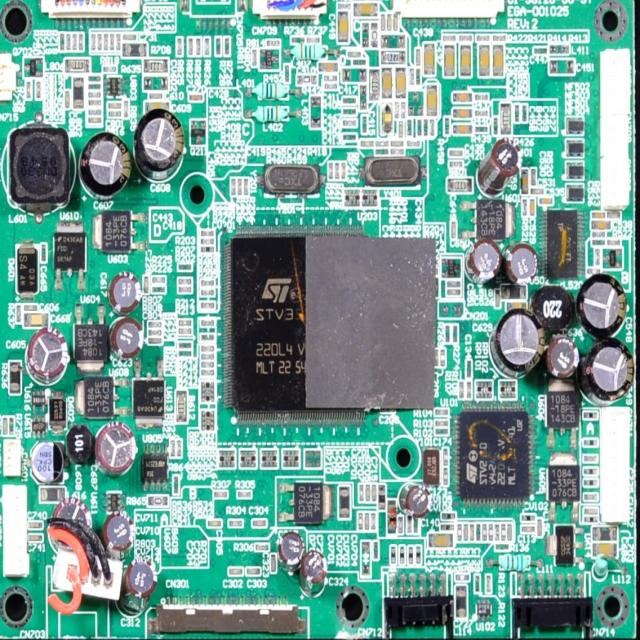Capacitor Jumper: (548, 59, 576, 76), (602, 248, 624, 269), (442, 45, 456, 77), (492, 44, 505, 78), (23, 312, 50, 328), (426, 83, 439, 115), (336, 11, 349, 43), (592, 542, 618, 558), (460, 43, 472, 77), (478, 44, 490, 78), (423, 44, 435, 76), (428, 533, 453, 548), (353, 3, 378, 16), (382, 68, 392, 99), (396, 68, 406, 98), (452, 122, 473, 136), (452, 107, 472, 120), (144, 101, 170, 110), (521, 168, 529, 195), (453, 92, 472, 103), (591, 220, 612, 229), (297, 75, 317, 84), (506, 301, 527, 309), (539, 196, 554, 206), (454, 573, 470, 582), (361, 114, 368, 134), (449, 148, 463, 158), (323, 74, 338, 83), (189, 93, 204, 102), (342, 96, 357, 105), (533, 46, 548, 55), (536, 518, 543, 537), (390, 139, 406, 147), (24, 304, 38, 313), (246, 566, 260, 575), (228, 567, 242, 576), (392, 12, 398, 32), (495, 288, 501, 308), (148, 337, 163, 345), (440, 348, 446, 368), (252, 519, 267, 527), (521, 526, 536, 534), (530, 198, 536, 217), (380, 13, 386, 32), (466, 359, 472, 378), (463, 523, 469, 542), (457, 524, 463, 543), (360, 140, 374, 148), (122, 34, 136, 42), (515, 104, 521, 122), (493, 117, 499, 135), (144, 276, 150, 294), (371, 484, 377, 502), (482, 524, 488, 542), (270, 554, 276, 572), (415, 48, 421, 66), (88, 116, 101, 124), (200, 245, 213, 253), (386, 14, 392, 31), (507, 523, 513, 540), (500, 523, 506, 540), (150, 93, 164, 100), (530, 188, 544, 195), (207, 520, 221, 527), (28, 522, 42, 529), (65, 90, 70, 109), (41, 243, 46, 262), (343, 108, 356, 115), (343, 134, 356, 141), (29, 534, 42, 541), (451, 221, 456, 239), (476, 524, 481, 542), (488, 524, 493, 541)
Connector: (512, 573, 591, 639), (157, 598, 297, 632), (600, 51, 629, 209), (382, 574, 453, 638), (602, 408, 630, 523), (2, 485, 30, 576), (397, 0, 502, 18), (254, 0, 328, 23), (41, 0, 141, 17), (3, 440, 21, 476), (439, 300, 464, 318)
IC: (227, 231, 435, 423), (453, 408, 533, 508), (541, 210, 584, 278), (94, 210, 147, 252), (460, 200, 515, 240), (54, 222, 87, 288), (549, 452, 578, 524), (76, 379, 129, 417), (548, 380, 578, 447), (74, 305, 108, 363), (134, 359, 164, 418), (546, 524, 584, 564), (142, 444, 168, 491), (104, 75, 128, 97), (476, 596, 493, 621), (103, 492, 126, 510), (32, 388, 45, 412), (33, 416, 46, 438)
Resistor Jumper: (500, 556, 530, 570), (9, 362, 20, 394), (123, 44, 146, 57), (362, 23, 370, 47), (148, 497, 168, 506), (342, 118, 358, 128), (390, 147, 405, 157), (284, 64, 291, 85), (451, 323, 458, 344), (444, 322, 451, 343), (215, 37, 222, 58), (176, 38, 184, 56), (444, 116, 451, 136), (530, 167, 537, 187), (148, 320, 162, 330), (223, 37, 230, 57), (204, 36, 211, 56), (474, 574, 481, 594), (371, 24, 377, 47), (406, 139, 421, 148), (449, 160, 464, 169), (200, 301, 215, 310), (435, 408, 450, 417), (337, 2, 352, 11), (195, 37, 202, 56), (188, 38, 195, 57), (251, 49, 258, 68), (485, 574, 492, 593), (200, 360, 216, 368), (474, 93, 488, 102), (88, 98, 102, 107), (88, 107, 102, 116), (592, 230, 606, 239), (178, 276, 192, 285), (36, 80, 42, 100), (87, 90, 102, 98), (107, 110, 122, 118), (474, 125, 489, 133), (328, 160, 334, 180), (334, 160, 340, 180), (522, 198, 528, 218), (200, 280, 215, 288), (458, 34, 473, 42), (466, 380, 472, 400), (306, 36, 321, 44), (266, 39, 281, 47), (9, 416, 15, 436), (434, 428, 449, 436), (173, 475, 179, 495), (365, 482, 371, 502), (201, 333, 214, 342), (123, 99, 129, 118), (16, 304, 22, 323), (170, 439, 176, 458), (358, 483, 364, 502), (470, 523, 476, 542), (473, 110, 489, 117), (152, 276, 166, 284), (152, 285, 166, 293), (200, 288, 214, 296), (178, 319, 192, 327), (178, 327, 192, 335), (178, 341, 192, 349), (200, 345, 214, 353), (200, 354, 216, 361), (201, 368, 215, 376), (476, 34, 490, 42), (101, 66, 117, 73), (26, 81, 32, 99), (242, 177, 248, 195), (60, 32, 66, 50), (78, 33, 84, 51), (72, 33, 78, 51), (176, 439, 182, 457), (87, 83, 102, 90), (374, 149, 389, 156), (492, 34, 507, 41), (434, 420, 449, 427), (237, 491, 252, 498), (88, 75, 101, 83), (494, 523, 500, 540), (178, 264, 192, 271), (201, 319, 215, 326), (148, 329, 162, 336), (178, 350, 192, 357), (291, 36, 305, 43), (214, 491, 228, 498), (376, 139, 388, 147), (201, 229, 213, 237), (231, 177, 236, 196), (201, 238, 214, 245), (522, 104, 527, 122), (340, 162, 345, 180), (237, 178, 242, 196), (459, 381, 464, 399), (102, 36, 108, 51), (66, 32, 71, 49), (444, 35, 456, 42), (228, 520, 242, 526), (495, 544, 509, 550), (110, 34, 115, 50), (116, 34, 121, 50), (325, 83, 338, 89), (179, 286, 192, 292), (256, 544, 268, 550), (98, 33, 102, 50), (92, 34, 96, 50)
Transistor: (22, 58, 44, 79), (260, 48, 280, 70), (191, 119, 206, 146), (442, 258, 461, 277)
